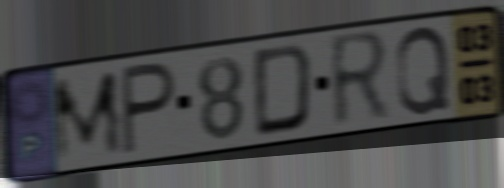8: (193, 51, 248, 145)
D: (251, 40, 316, 140)
M: (49, 66, 127, 166)
P: (119, 59, 180, 159)
Q: (393, 23, 453, 119)
R: (327, 26, 393, 134)
